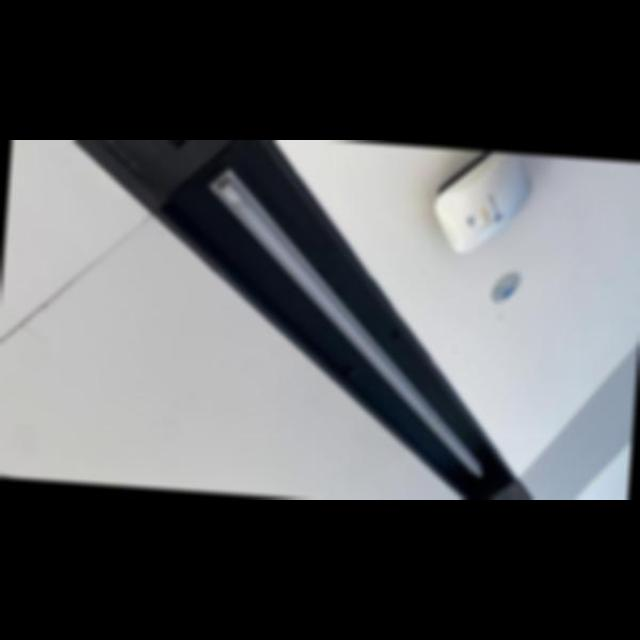Straight-Tube-Fluorescent-Lamp: (185, 160, 513, 484)
